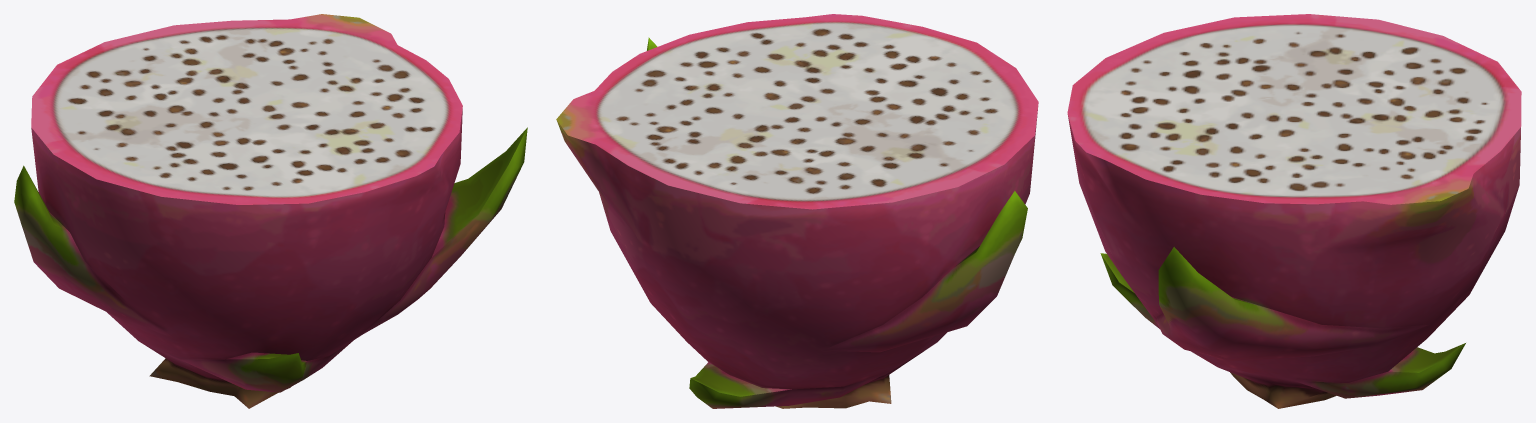
Rendered from SM_PitayaCutBottom.fbx.
The picture shows the model from 3 angles, left to right: view 1: azimuth 30°, elevation 25°; view 2: azimuth 150°, elevation 25°; view 3: azimuth 270°, elevation 25°; orthographic projection. The views are drawn at different scales.
Parts seen in each view (by area): view 1: SM_PitayaCutBottom; view 2: SM_PitayaCutBottom; view 3: SM_PitayaCutBottom.
Part boxes in pixels (<box>): SM_PitayaCutBottom: <box>14,14,527,408</box>; SM_PitayaCutBottom: <box>556,14,1038,408</box>; SM_PitayaCutBottom: <box>1067,14,1521,408</box>.
Bounding box in the file's own units: 15.03 × 8.7 × 13.12.
